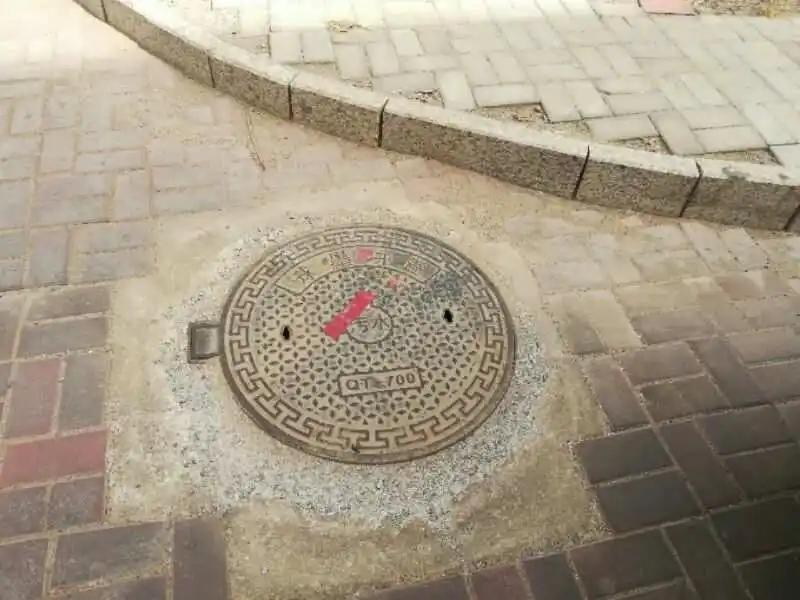wellcover: (185, 224, 534, 465)
